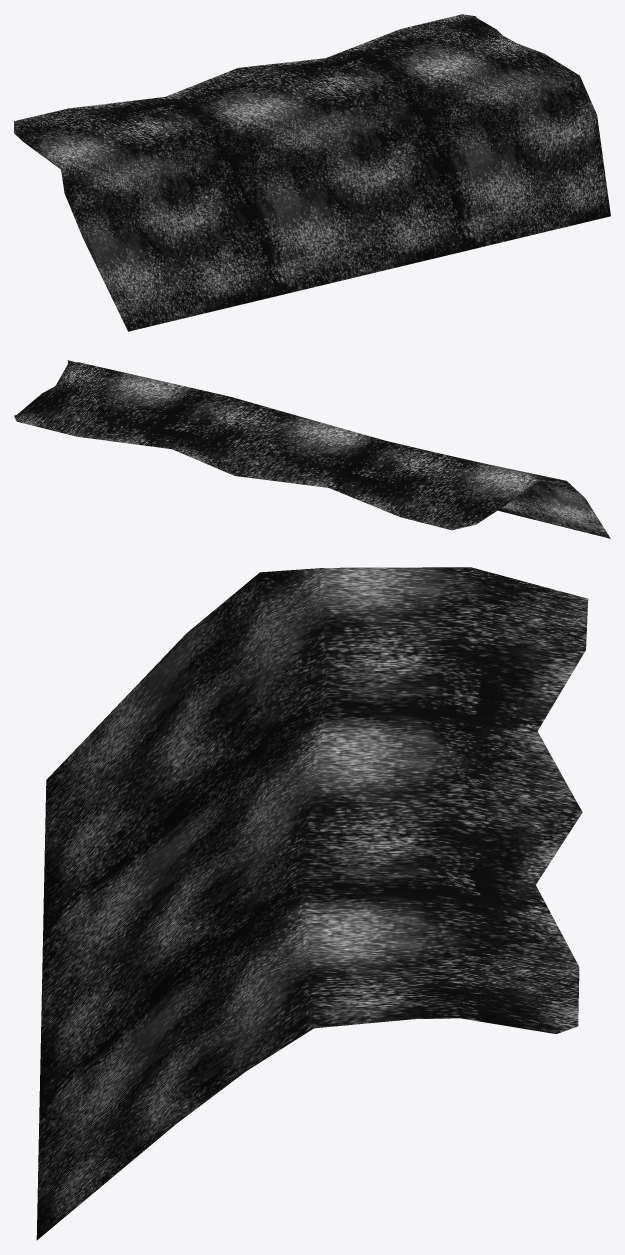
Rendered from sefg09.obj.
The picture shows the model from 3 angles, top to bottom: view 1: azimuth 30°, elevation 25°; view 2: azimuth 150°, elevation 25°; view 3: azimuth 270°, elevation 25°; orthographic projection. The views are drawn at different scales.
Parts seen in each view (by area): view 1: sefg09; view 2: sefg09; view 3: sefg09.
Boxes of the visible parts, bbox=[...] form: sefg09: bbox=[14, 14, 610, 331]; sefg09: bbox=[14, 360, 610, 538]; sefg09: bbox=[36, 567, 588, 1240].
Bounding box in the file's own units: 895 × 190 × 425.
